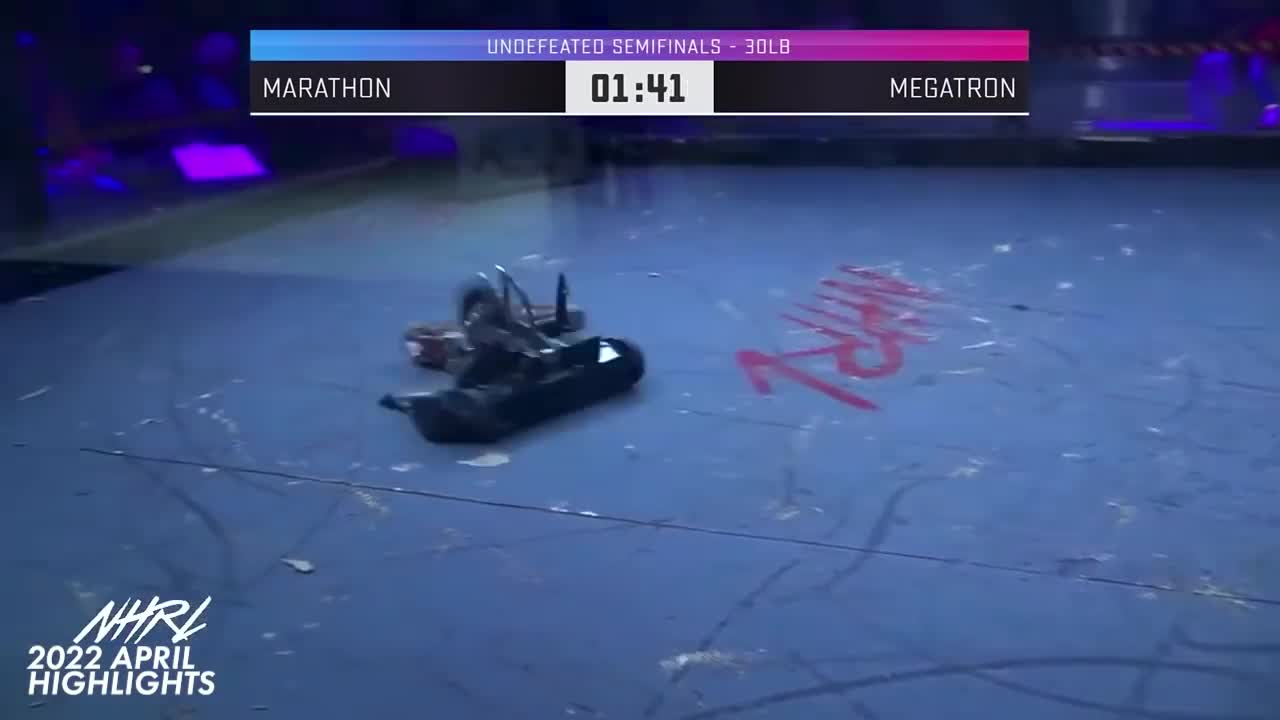combatbot: (417, 338, 645, 440), (393, 298, 585, 362)
housebot: (432, 114, 606, 205)
